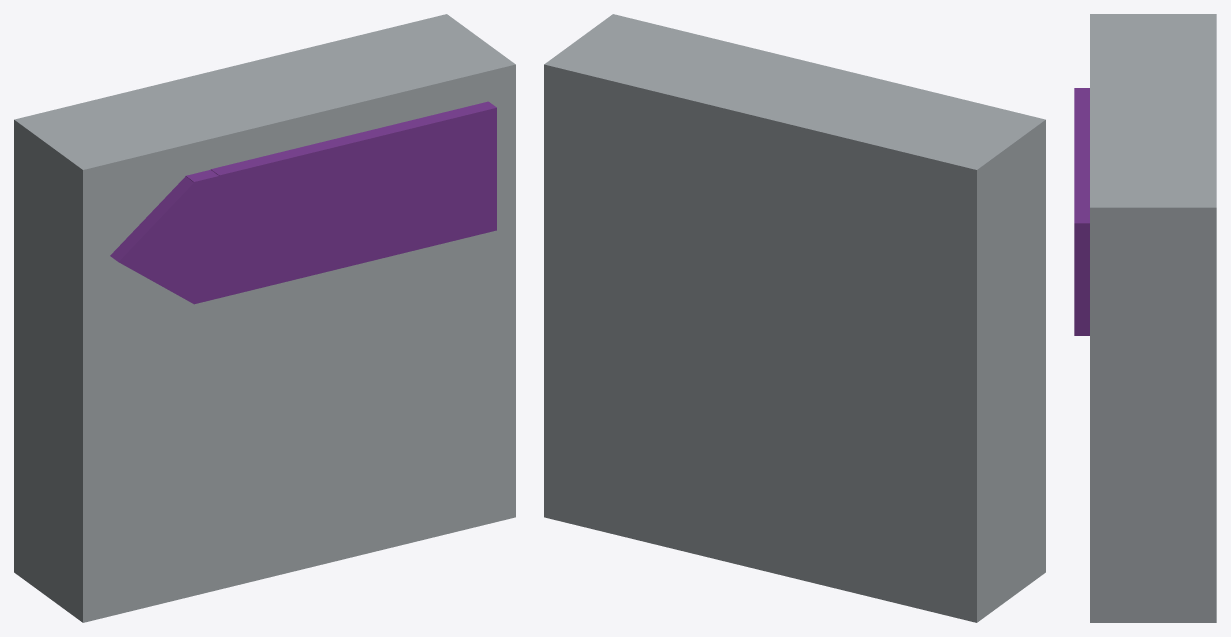
Rendered from tinker.obj.
The picture shows the model from 3 angles, left to right: view 1: azimuth 30°, elevation 25°; view 2: azimuth 150°, elevation 25°; view 3: azimuth 270°, elevation 25°; orthographic projection. The views are drawn at different scales.
Visible parts, largest first — view 1: group_0_10988977, group_0_8273816; view 2: group_0_10988977; view 3: group_0_10988977, group_0_8273816.
Boxes of the visible parts, <box> form: group_0_10988977: <box>14,14,515,622</box>; group_0_8273816: <box>110,101,496,304</box>; group_0_10988977: <box>544,14,1045,622</box>; group_0_10988977: <box>1090,14,1216,622</box>; group_0_8273816: <box>1074,88,1089,335</box>.
Size of the model in its own units: 1 by 1 by 0.31.
